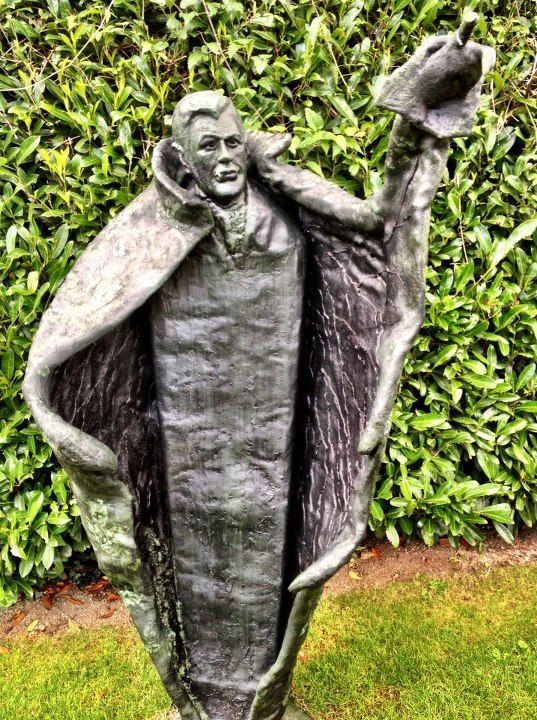person-like: (18, 8, 500, 720)
